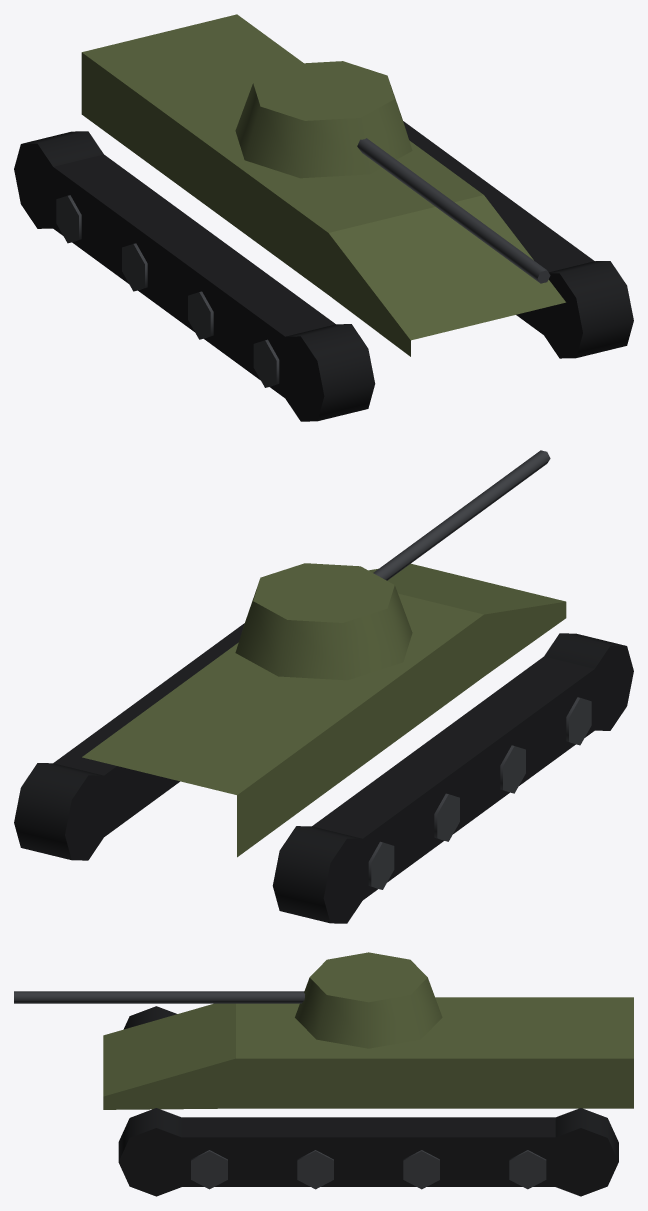
The model's file is veh_ground_tank_light_a08.glb.
3 views of the same model, one above another, from view 1: azimuth 30°, elevation 25°; view 2: azimuth 150°, elevation 25°; view 3: azimuth 270°, elevation 25° (orthographic). The views are drawn at different scales.
Parts seen in each view (by area): view 1: body, track_r, turret, track_l; view 2: body, track_r, turret, track_l; view 3: body, track_l, turret, track_r.
Boxes of the visible parts, bbox=[...] form: body: bbox=[81, 14, 565, 356]; track_r: bbox=[14, 131, 375, 421]; turret: bbox=[235, 61, 550, 283]; track_l: bbox=[403, 121, 633, 358]; body: bbox=[82, 563, 566, 857]; track_r: bbox=[272, 633, 633, 923]; turret: bbox=[235, 450, 550, 680]; track_l: bbox=[14, 623, 244, 860]; body: bbox=[103, 997, 633, 1109]; track_l: bbox=[118, 1108, 618, 1196]; turret: bbox=[14, 952, 442, 1048]; track_r: bbox=[123, 1006, 176, 1029].
Size of what is drawn, in the model's own units: 3.38 by 2.01 by 7.13.
